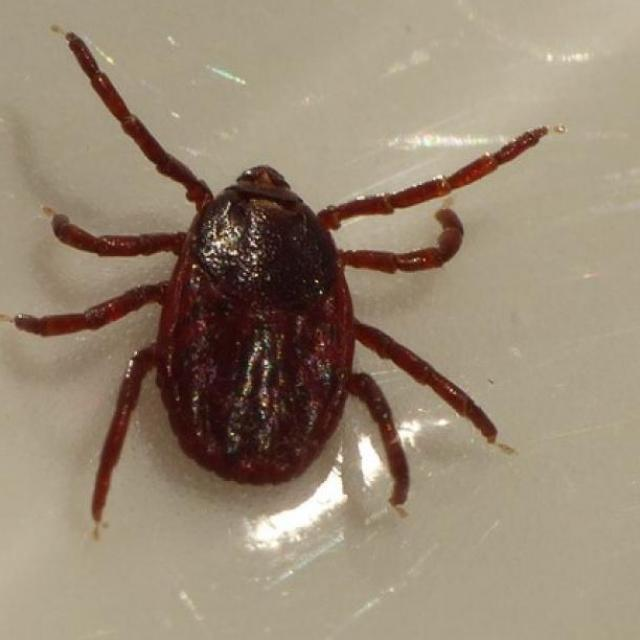Rhipicephalus Sanguineus-F: (13, 33, 555, 524)
